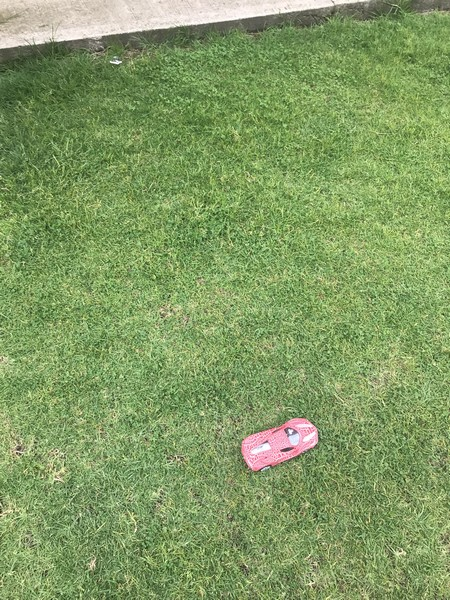RC: (240, 417, 320, 472)
